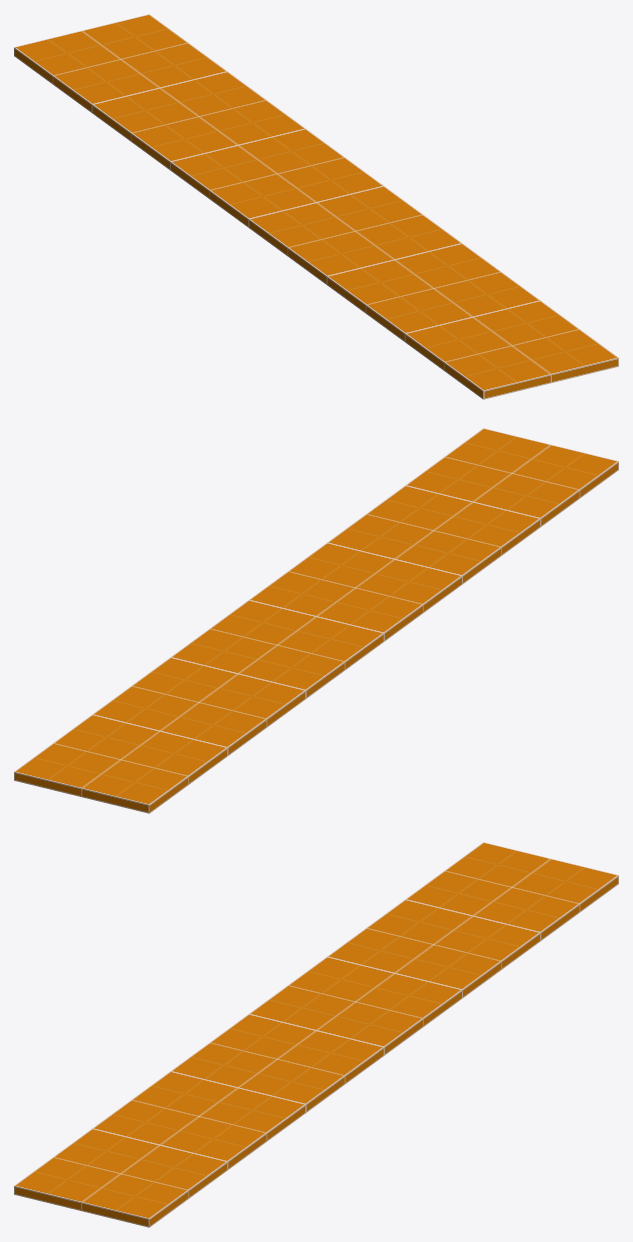
The model's file is Plate16_1x6.obj.
The picture shows the model from 3 angles, top to bottom: view 1: azimuth 30°, elevation 25°; view 2: azimuth 150°, elevation 25°; view 3: azimuth 330°, elevation 25°; orthographic projection.
Visible parts, largest first — view 1: Plate16_1x6_Cube.420; view 2: Plate16_1x6_Cube.420; view 3: Plate16_1x6_Cube.420.
Boxes of the visible parts, bbox=[...] form: Plate16_1x6_Cube.420: bbox=[14, 14, 618, 399]; Plate16_1x6_Cube.420: bbox=[14, 428, 618, 813]; Plate16_1x6_Cube.420: bbox=[14, 842, 618, 1227].
Size of the model in its own units: 1 by 0.0625 by 6.
Materials: 1 (1 with a texture image).
